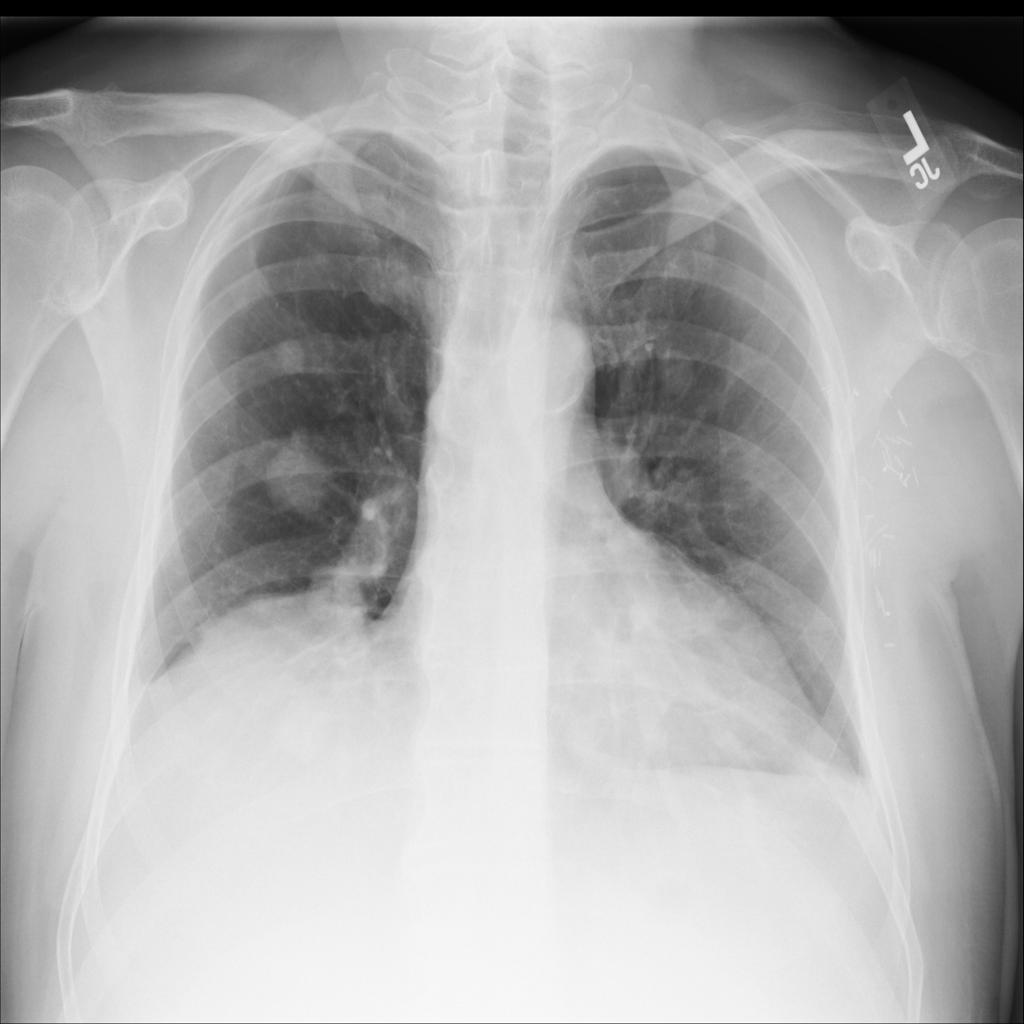nodule: (250, 412, 351, 536), (257, 319, 323, 396), (649, 333, 712, 410), (682, 217, 731, 267)
